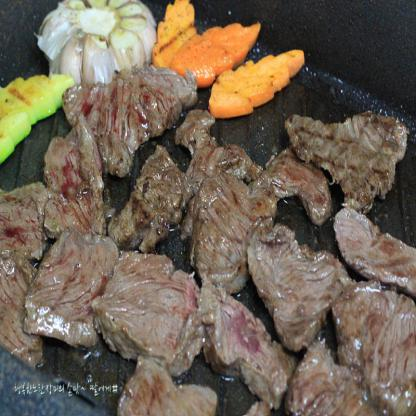Carne: (96, 252, 203, 371), (198, 276, 291, 411), (19, 228, 116, 352), (183, 166, 276, 289), (334, 277, 416, 415), (294, 109, 409, 207), (255, 218, 342, 339), (101, 150, 190, 254), (0, 176, 49, 361), (69, 77, 176, 160), (35, 120, 104, 232), (337, 202, 415, 297), (288, 338, 378, 415), (120, 364, 211, 415)
